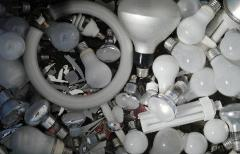lightbulb: (0, 0, 240, 154), (117, 1, 181, 54), (76, 41, 112, 88), (147, 80, 187, 122), (203, 118, 229, 144), (122, 128, 148, 154)
